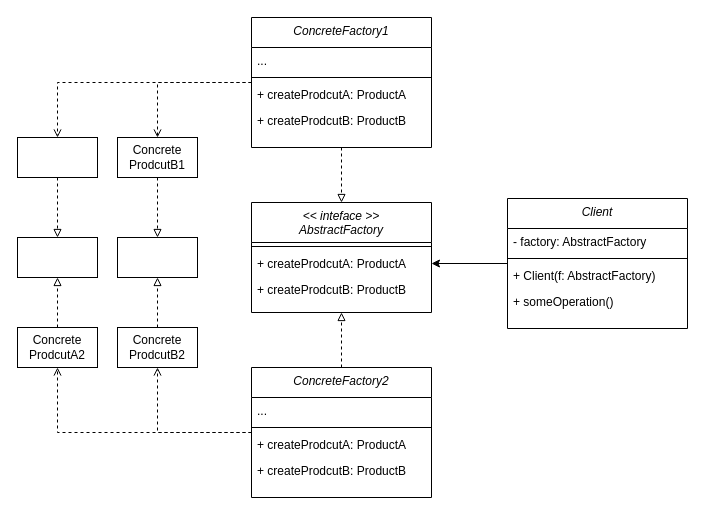
This 705x515 diagram has some shape labels left out. Each missing label, with the box of its shape:
Abstract ProdcutA: (16, 236, 98, 278)
Abstract ProdcutB: (116, 236, 198, 278)
Concrete ProdcutA1: (16, 136, 98, 178)
